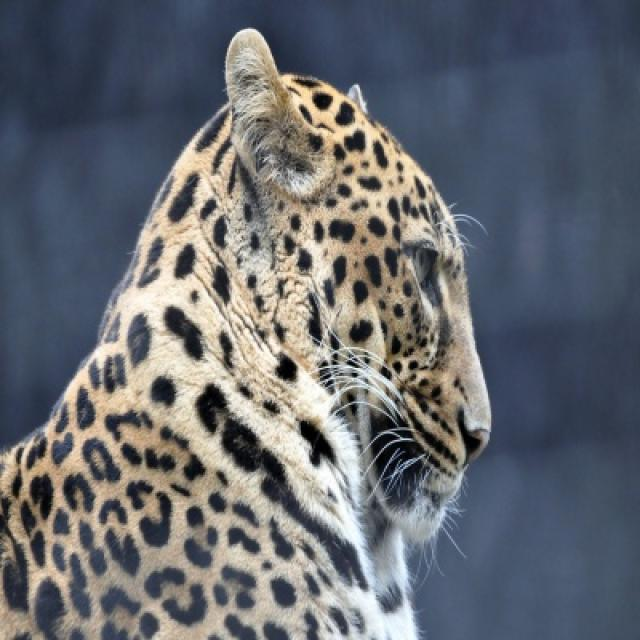Jaguar: (0, 29, 493, 638)
